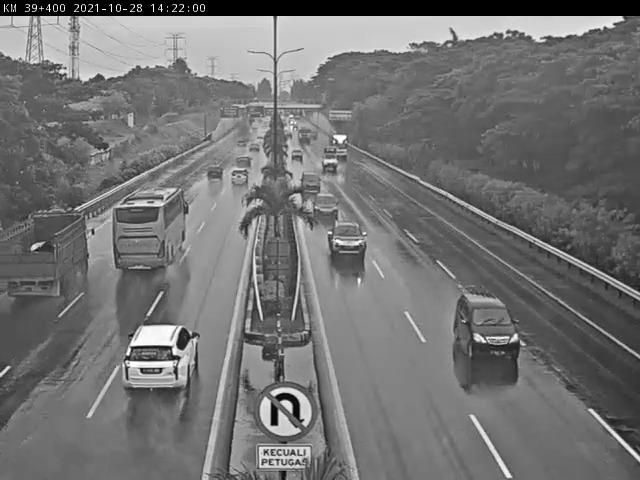big bus: (105, 183, 189, 269)
car: (120, 319, 203, 394), (453, 291, 519, 361), (326, 218, 369, 263), (312, 193, 339, 221), (204, 159, 224, 182), (229, 170, 250, 186), (301, 171, 322, 187), (233, 155, 253, 169), (289, 146, 304, 164)
small truck: (0, 211, 98, 302), (321, 147, 339, 172)
